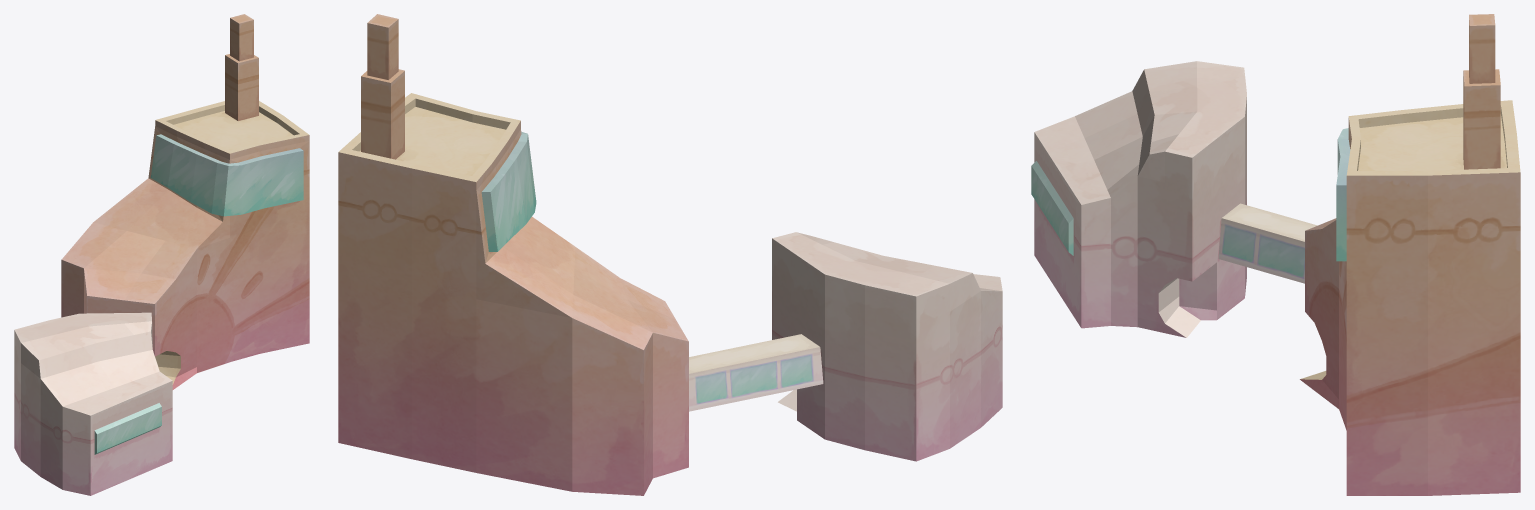
File: academy_main.fbx
3 renders of one model, left to right at view 1: azimuth 30°, elevation 25°; view 2: azimuth 150°, elevation 25°; view 3: azimuth 270°, elevation 25°, orthographic. The views are drawn at different scales.
Visible parts, largest first — view 1: Academy Main; view 2: Academy Main; view 3: Academy Main.
Boxes of the visible parts, left/top/right/bottom form: Academy Main: left=14, top=14, right=309, bottom=495; Academy Main: left=338, top=14, right=1002, bottom=495; Academy Main: left=1031, top=14, right=1520, bottom=495.
Size of the model in its own units: 6143 by 5165 by 4997.
